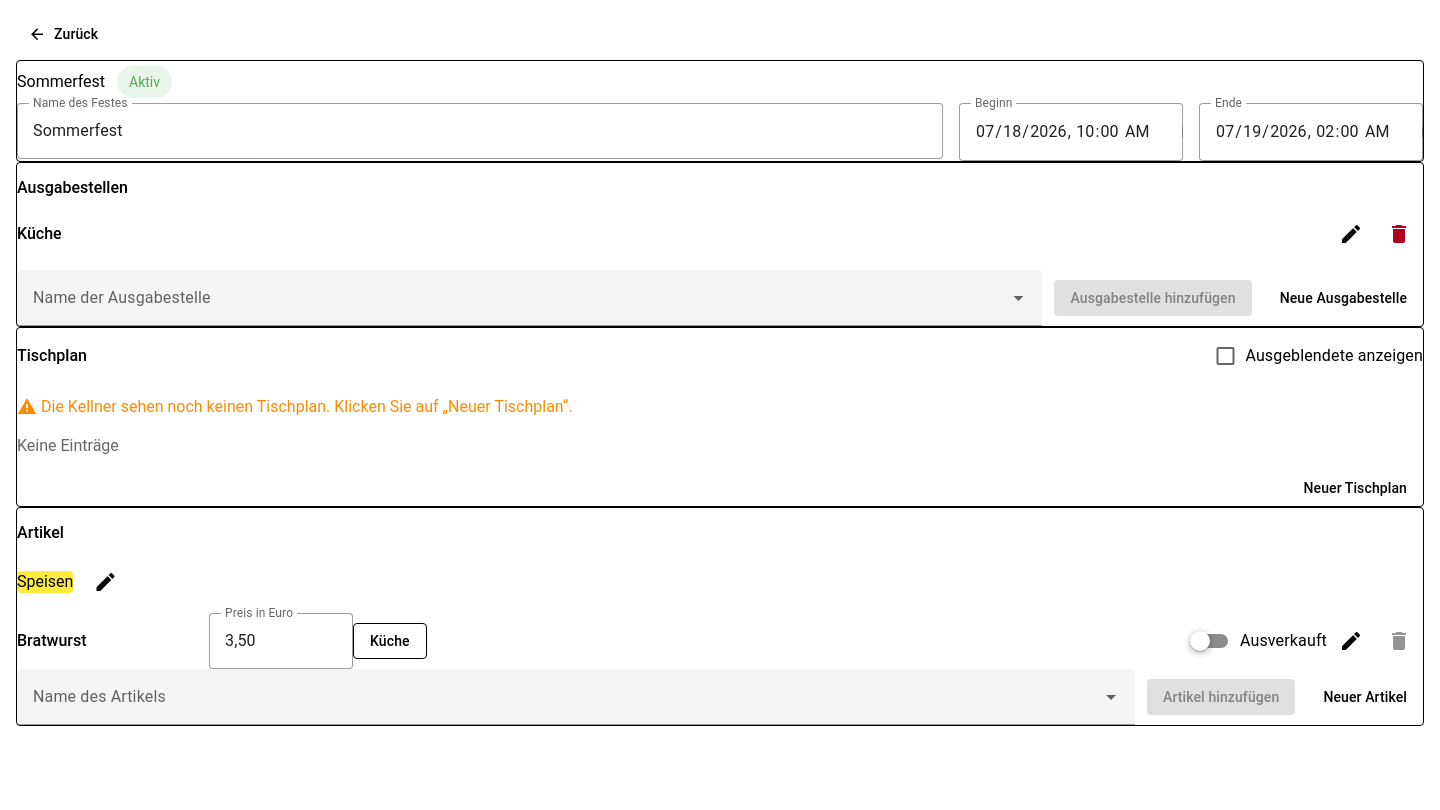
Test: the stations of this festival › creates a station in the popup and only offers it for adding afterwards
This screenshot has width=1440, height=810.
Step 1. Click the button with test id "new-station" → click(1343, 298), box [1264,280,1423,316]
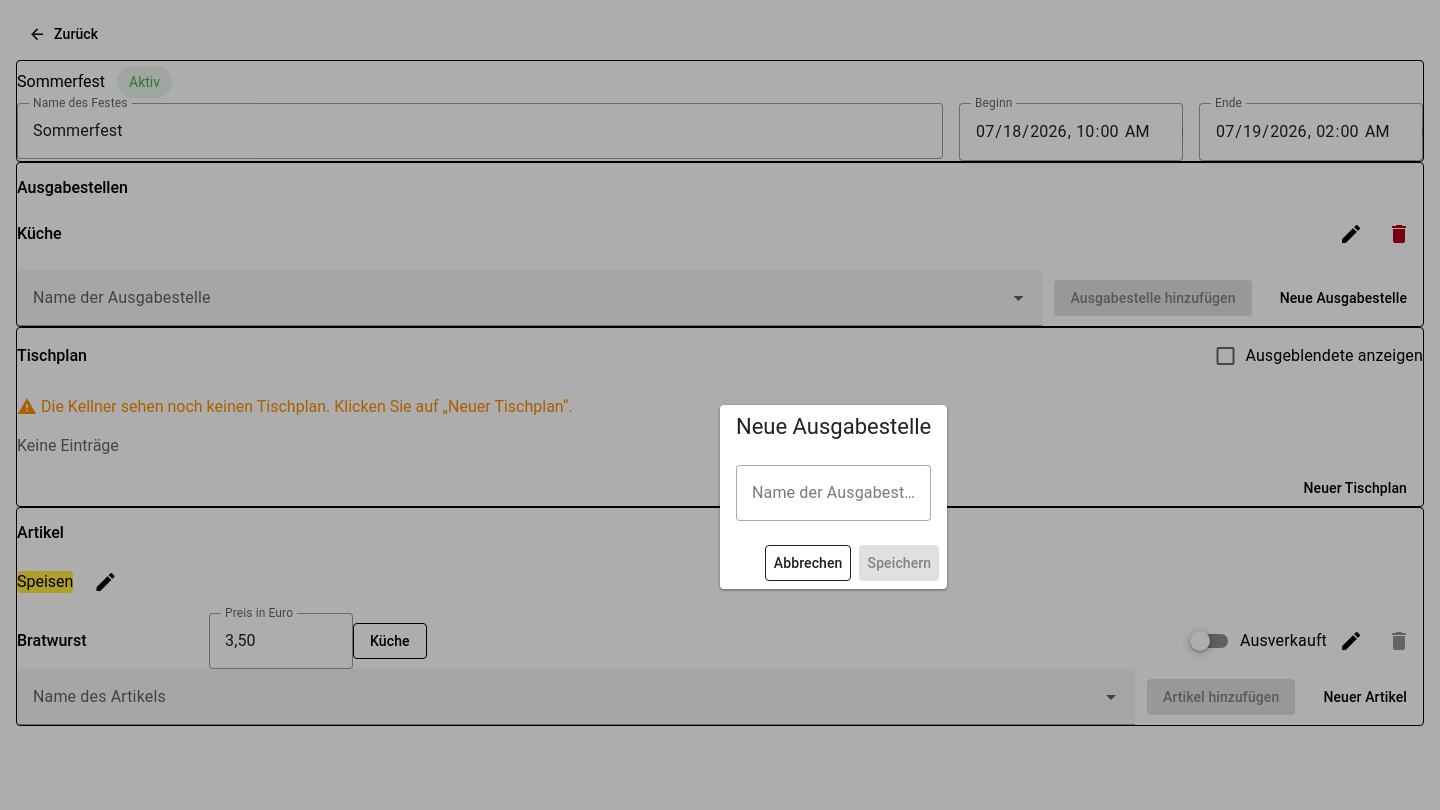
Expected: the element with test id "station-name-field" is shown
Step 2. Type "Zelt" into the field labelled "Name der Ausgabestelle" → (834, 493), box [736,465,931,521]
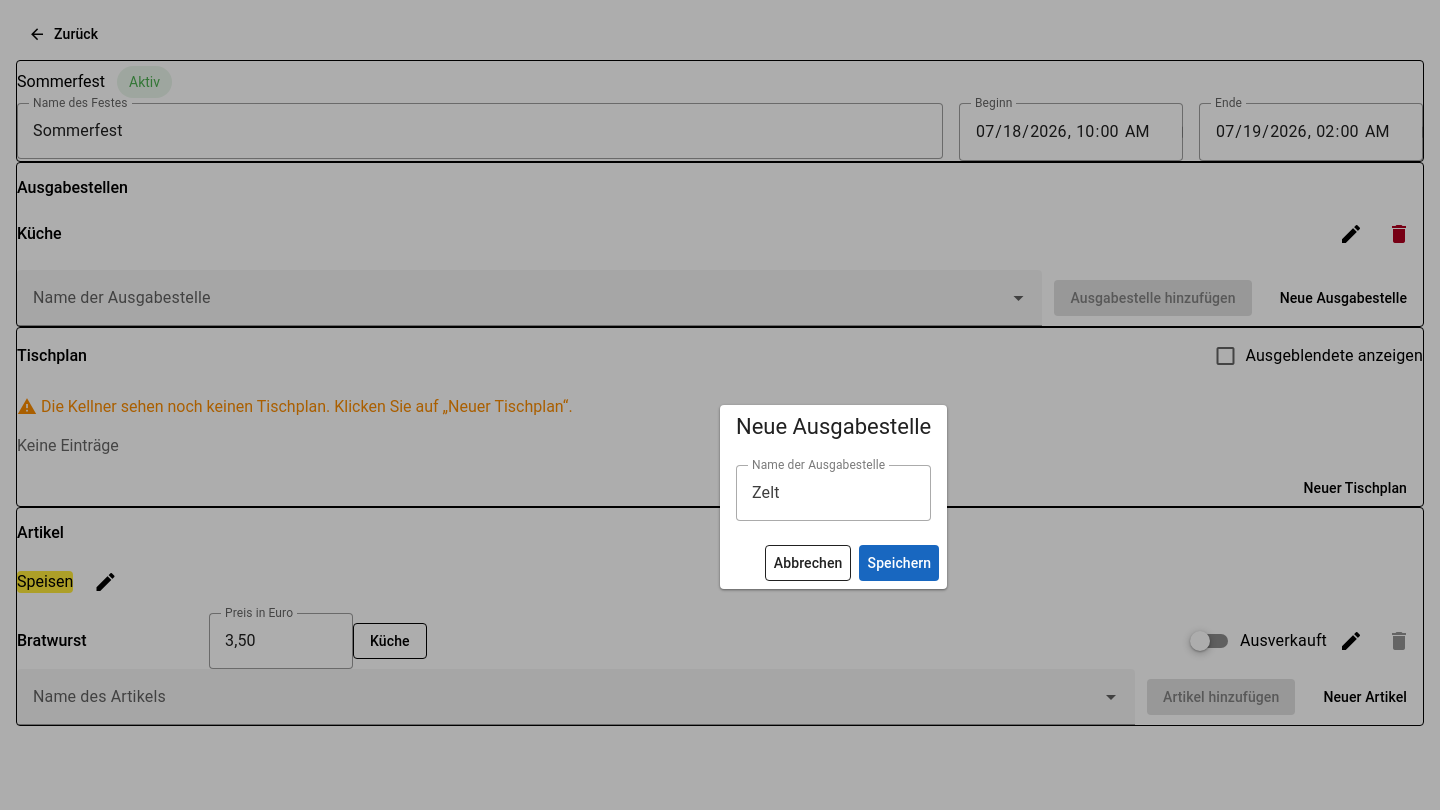
Expected: the button with test id "form-save" is enabled
Step 3. Click the button with test id "form-save" → click(899, 563), box [860,545,939,581]
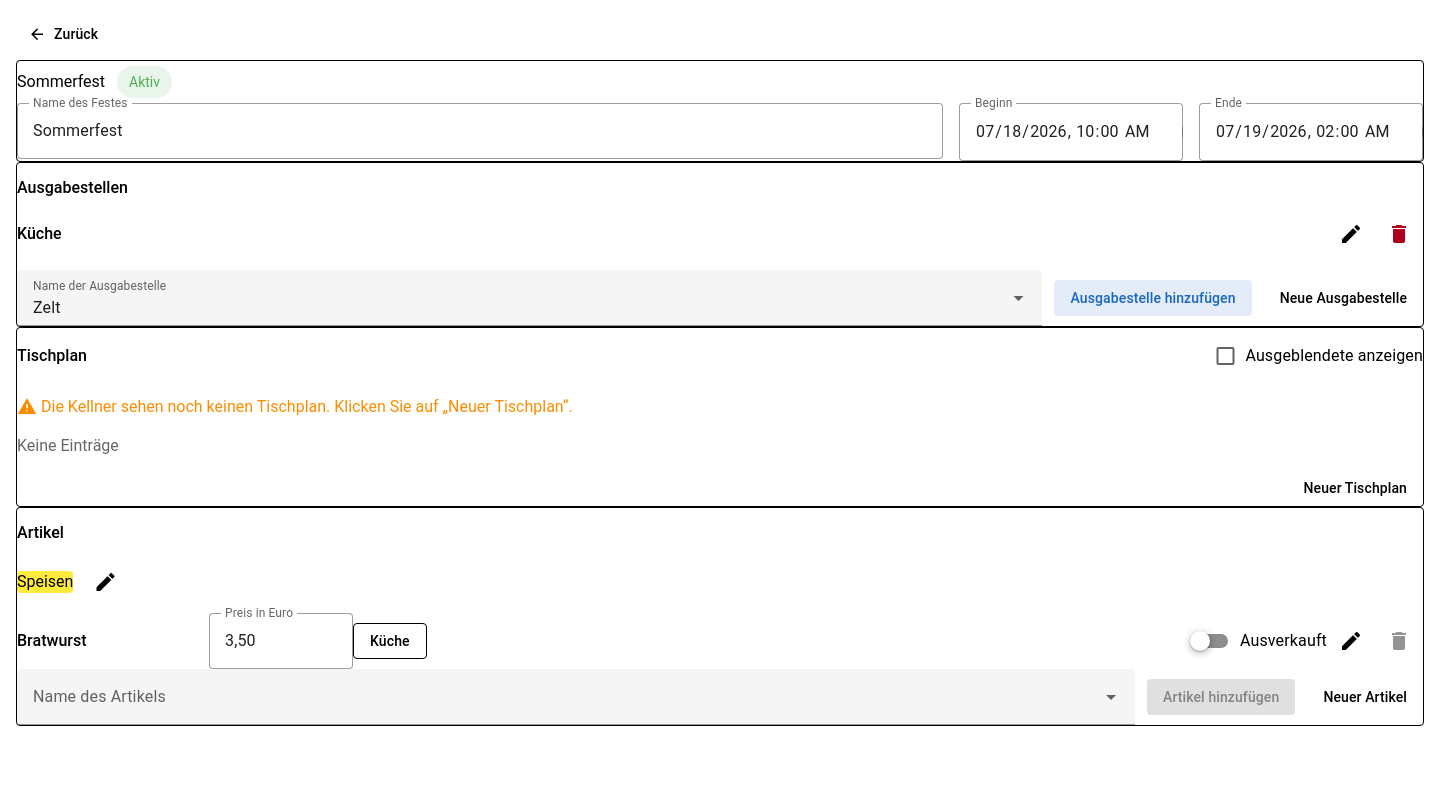
Expected: the element with test id "form-dialog" is gone
